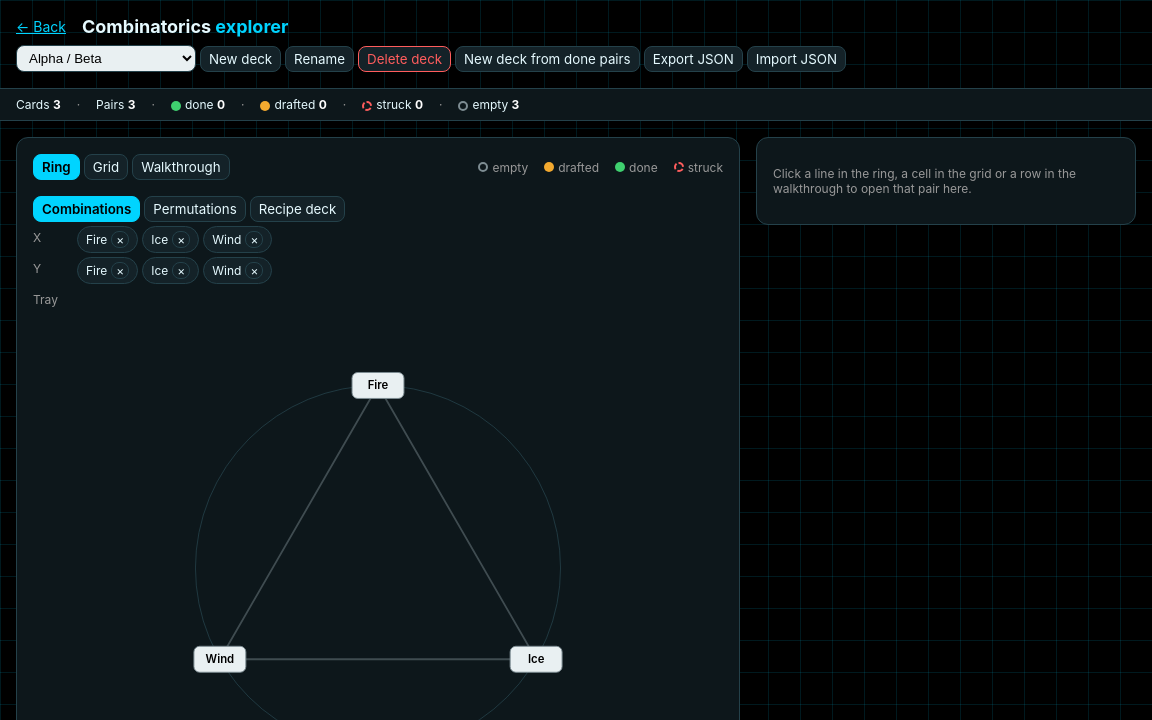
CombinationsPage promote › toasts and skips the API when no pair is done
Click the button "New deck from done pairs" at {"x": 547, "y": 58}, box x1=455 y1=46 x2=640 y2=72
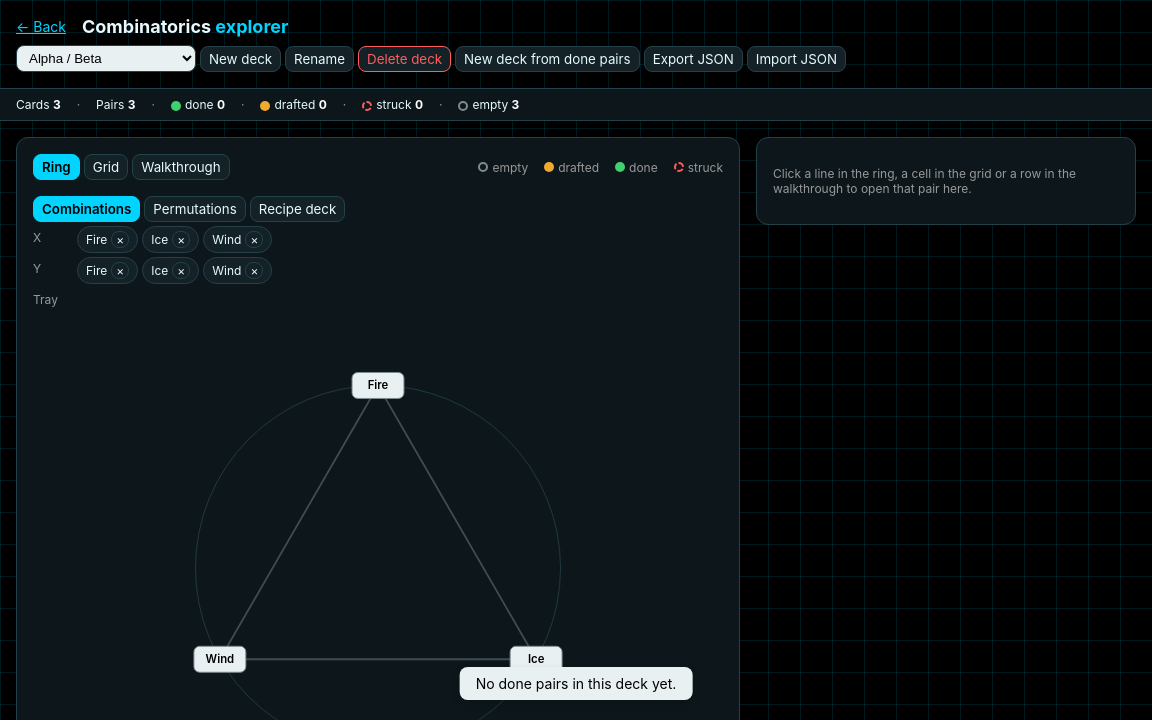
Now the text "No done pairs in this deck yet." is shown, box x1=460 y1=667 x2=692 y2=700
